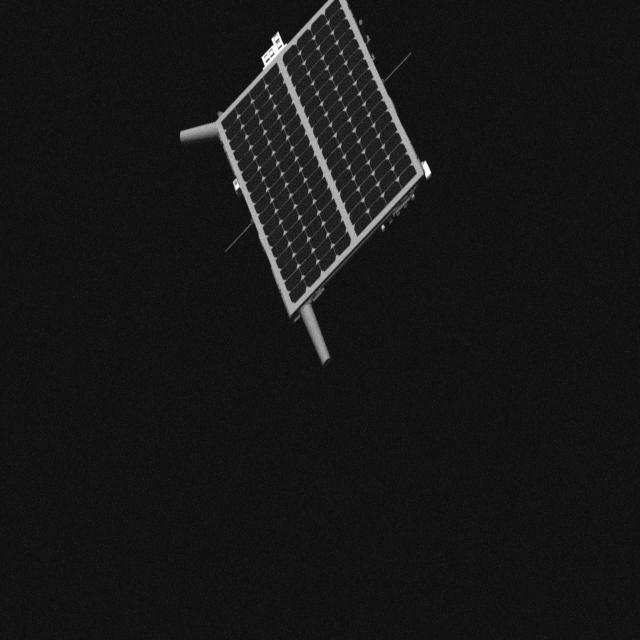satellite: (162, 0, 438, 362)
